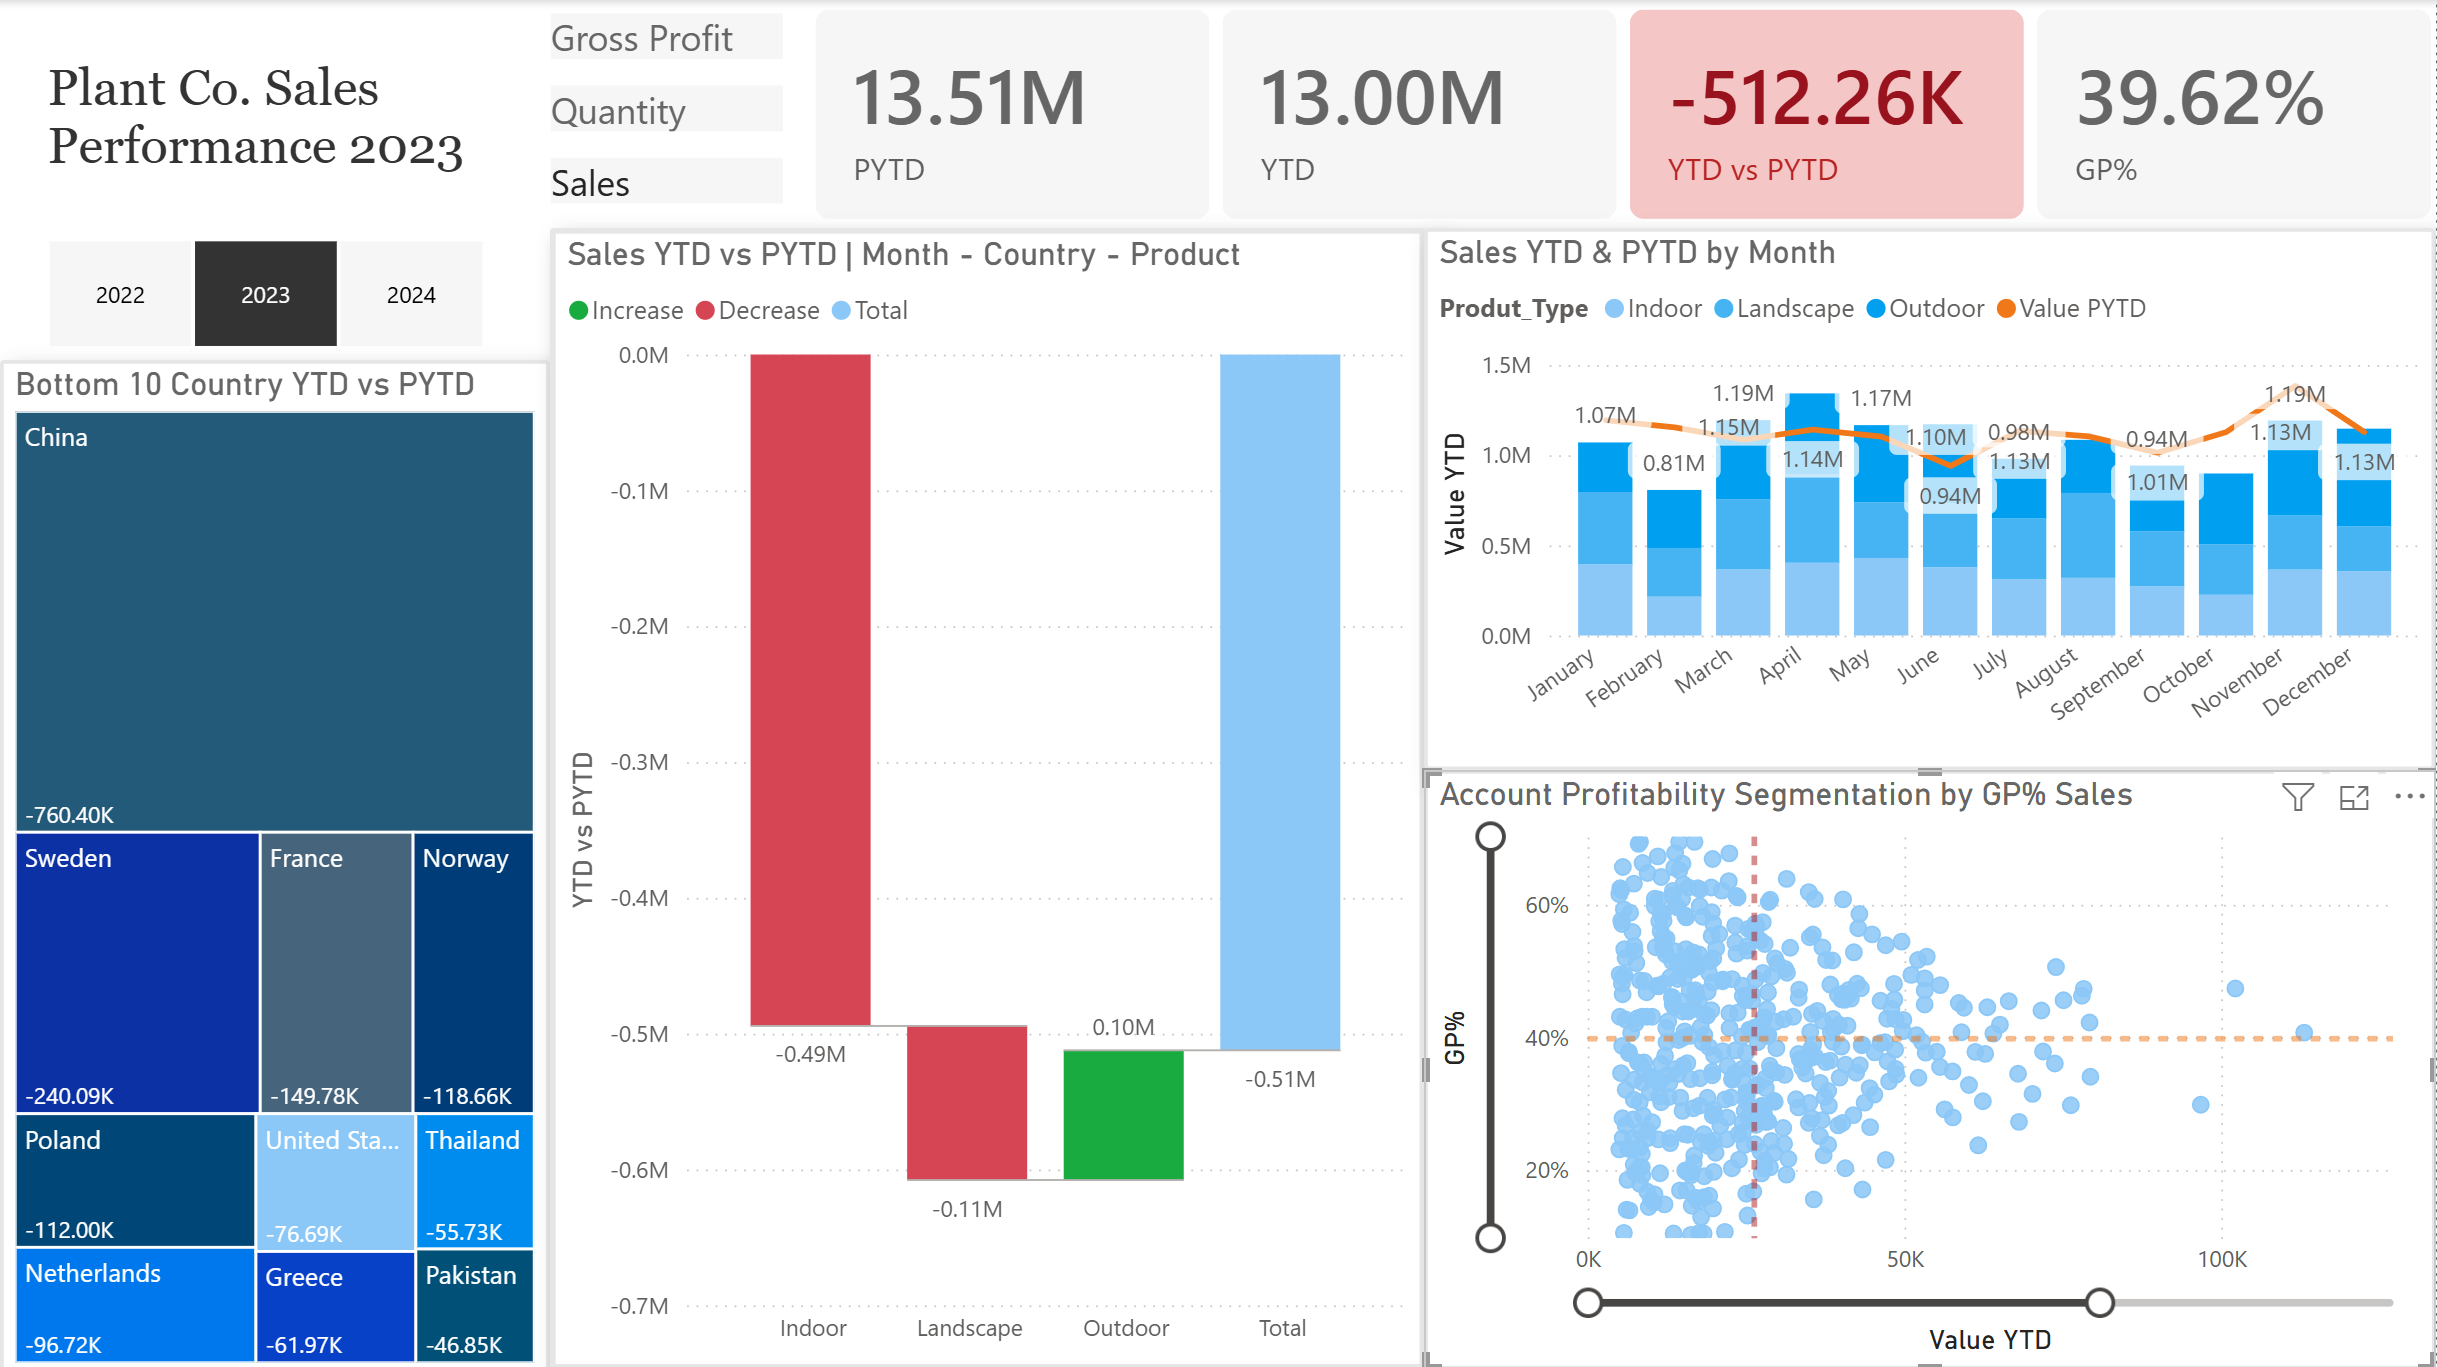

What the dashboard file says about the page in this screenshot:
{"tool":"powerbi","page":{"name":"Performance DB","canvas":[1280,720],"ordinal":0},"visuals":[{"type":"cardVisual","fields":{"Data":["_Measures.Switch_PYTD","_Measures.Switch_YTD","_Measures.YTD vs PYTD","_Measures.GP%"]},"box":[423.8,0,860,120],"z":0},{"type":"listSlicer","fields":{"Values":["Slc_Values.Value"]},"box":[277.5,0,146.2,120],"z":1000},{"type":"slicer","fields":{"Values":["Dim_Date.Date.Variation.Date Hierarchy.Year"]},"box":[0,120,277.5,68.8],"z":2000},{"type":"treemap","title":"Bottom 10 Country YTD vs PYTD","fields":{"Values":["_Measures.YTD vs PYTD"],"Group":["Dim_Account.country"]},"box":[0,188.8,288.8,535],"z":3000},{"type":"waterfallChart","fields":{"Y":["_Measures.YTD vs PYTD"],"Category":["Dim_Date.Date.Variation.Date Hierarchy.Month","Dim_Account.country","Dim_Product.Produt_Type","Dim_Product.Product_Name"]},"box":[288.8,120,460,600],"z":4000},{"type":"lineStackedColumnComboChart","fields":{"Y":["_Measures.Switch_YTD"],"Y2":["_Measures.Switch_PYTD"],"Category":["Dim_Date.Date.Variation.Date Hierarchy.Quarter","Dim_Date.Date.Variation.Date Hierarchy.Month"],"Series":["Dim_Product.Produt_Type"]},"box":[748.8,120,531.2,285],"z":5000},{"type":"scatterChart","fields":{"Y":["_Measures.GP%"],"X":["_Measures.Switch_YTD"],"Category":["Dim_Account.Account"]},"box":[748.8,405,531.2,315],"z":6000},{"type":"cardVisual","fields":{"Data":["_Measures.Report title"]},"box":[0,0,277.5,120],"z":7000}]}

Visuals, with their boxes in screenshot pixels (x1, y1, x2, y2), scaled from the page's 1280x720 canvas onto the 2437x1367 screenshot:
cardVisual - _Measures.Switch_PYTD x _Measures.Switch_YTD: bbox=[807, 0, 2436, 228]
listSlicer - Slc_Values.Value: bbox=[528, 0, 807, 228]
slicer - Dim_Date.Date.Variation.Date Hierarchy.Year: bbox=[0, 228, 528, 358]
"Bottom 10 Country YTD vs PYTD" treemap: bbox=[0, 358, 550, 1366]
waterfallChart - _Measures.YTD vs PYTD x Dim_Date.Date.Variation.Date Hierarchy.Month: bbox=[550, 228, 1426, 1366]
lineStackedColumnComboChart - _Measures.Switch_YTD x _Measures.Switch_PYTD: bbox=[1426, 228, 2436, 769]
scatterChart - _Measures.GP% x _Measures.Switch_YTD: bbox=[1426, 769, 2436, 1366]
cardVisual - _Measures.Report title: bbox=[0, 0, 528, 228]
